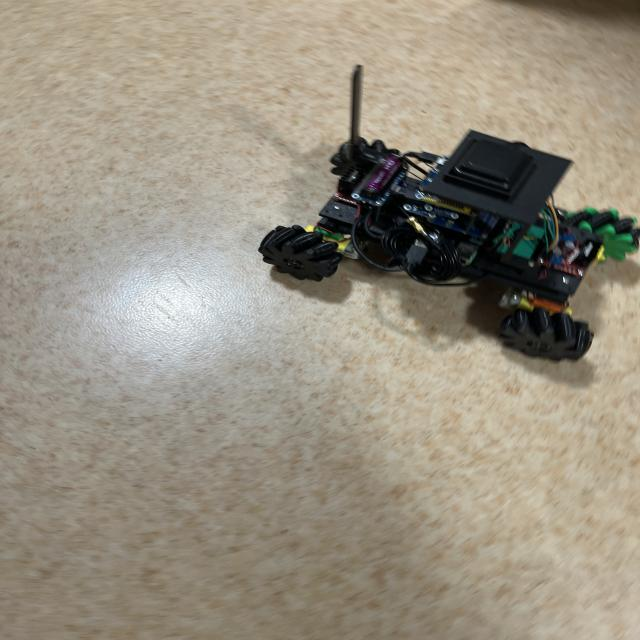robot: (258, 65, 640, 360)
